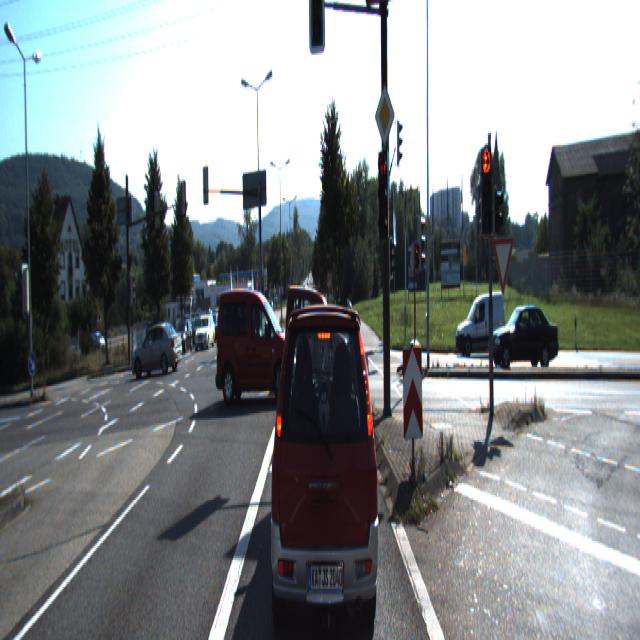Car: (267, 277, 381, 636), (215, 286, 300, 409), (286, 282, 350, 388), (488, 298, 560, 373), (455, 288, 506, 355), (132, 325, 184, 378), (172, 321, 193, 355), (195, 316, 215, 350), (219, 310, 239, 344)
